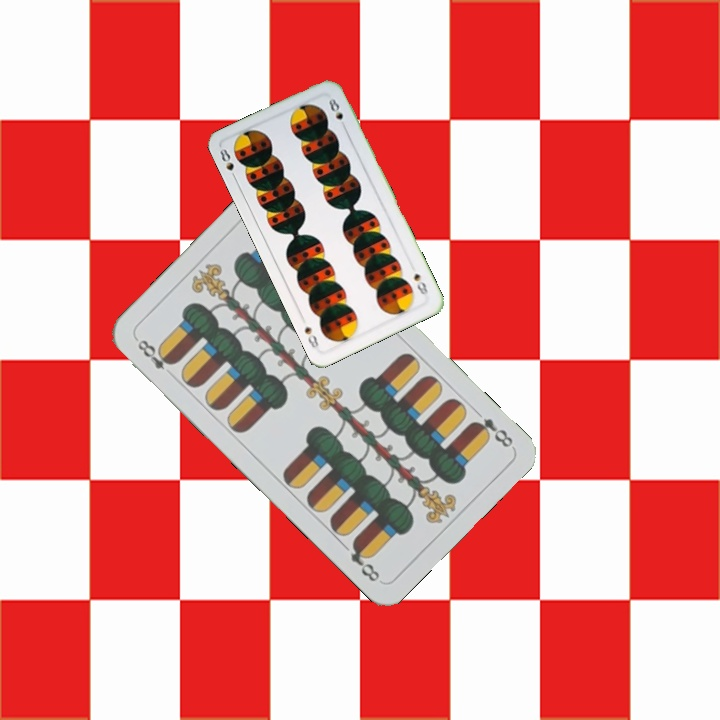E8: (467, 414, 516, 451), (132, 334, 178, 373)
S8: (216, 144, 239, 183), (410, 269, 431, 297)
